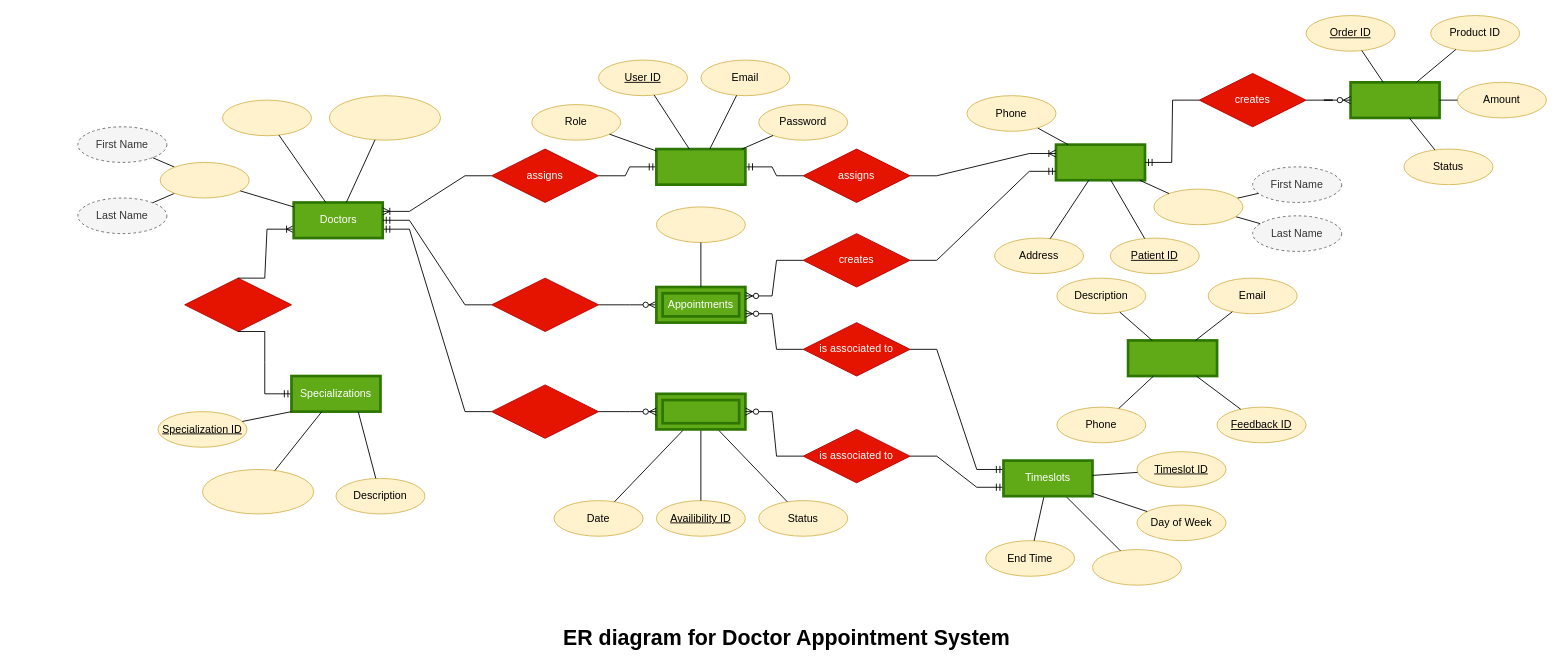
This 1562x672 diagram has some shape labels left out. Here are the shapes that lost their labels. From the top down, the centre of each, then its label:
At pixel 267 117: "Doctor ID".
At pixel 384 117: "Contact Information".
At pixel 1394 100: "Orders".
At pixel 204 180: "Doctor Name".
At pixel 700 166: "Users".
At pixel 1100 162: "Patients".
At pixel 700 224: "Appointment ID".
At pixel 1198 206: "Patient Name".
At pixel 237 304: "Holds".
At pixel 545 304: "is assigned to".
At pixel 1172 358: "Feedbacks".
At pixel 545 411: "has".
At pixel 700 411: "Availibilities".
At pixel 258 491: "Specialization Name".
At pixel 1136 567: "Start Time".
